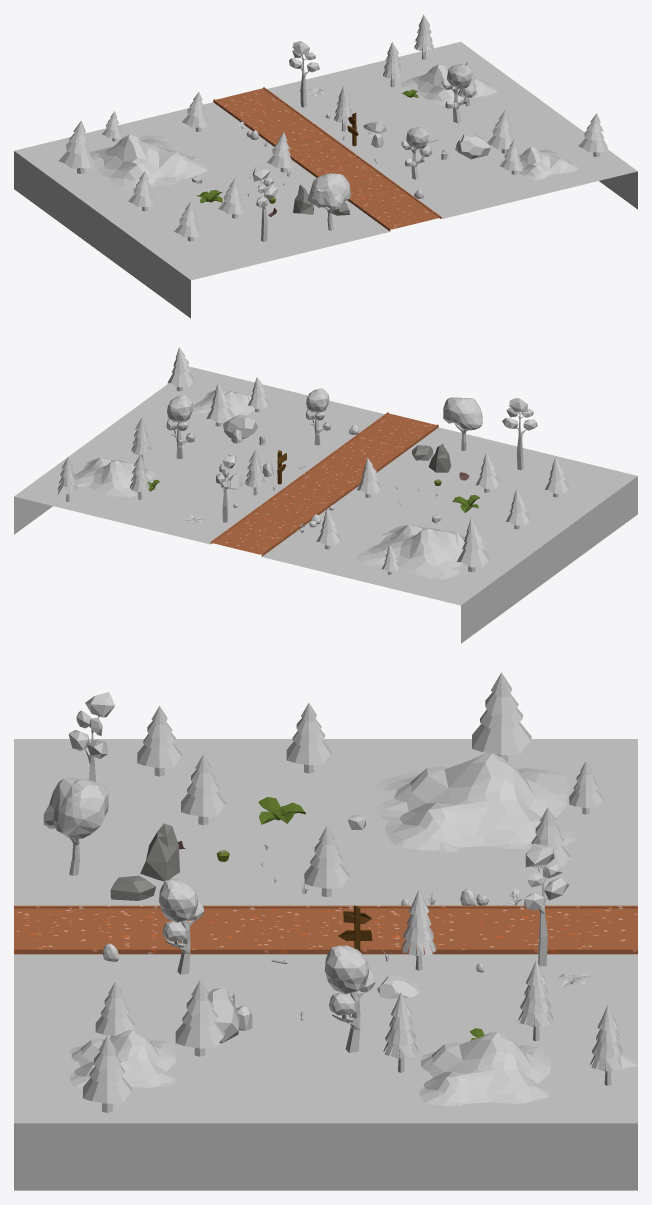
File: Forest (1).fbx
3 renders of one model, top to bottom at view 1: azimuth 30°, elevation 25°; view 2: azimuth 150°, elevation 25°; view 3: azimuth 270°, elevation 25°, orthographic. The views are drawn at different scales.
Visible parts, largest first — view 1: Forest; view 2: Forest; view 3: Forest.
Boxes of the visible parts, x1,y1,x2,y2 form: Forest: (14,14,637,318); Forest: (14,347,637,643); Forest: (14,672,637,1190).
Bounding box in the file's own units: 43.71 × 10.27 × 30.
